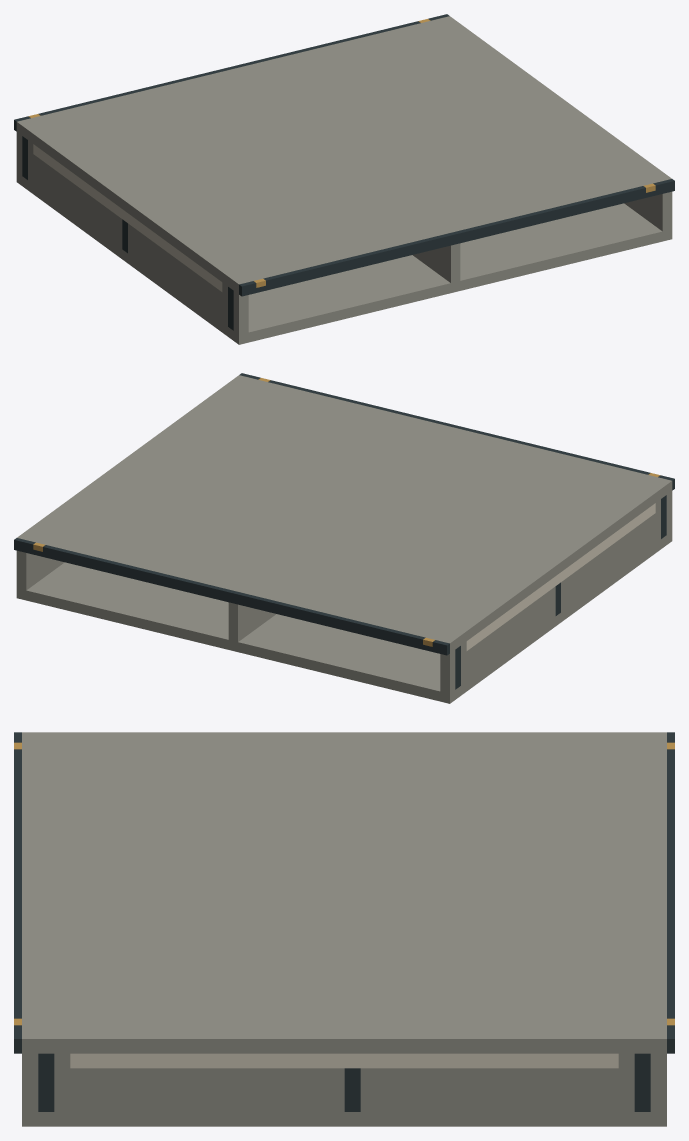
3 views of the same model, one above another, from view 1: azimuth 30°, elevation 25°; view 2: azimuth 150°, elevation 25°; view 3: azimuth 270°, elevation 25° (orthographic). The views are drawn at different scales.
Parts seen in each view (by area): view 1: 隔离共享高桥梁体; view 2: 隔离共享高桥梁体; view 3: 隔离共享高桥梁体.
Boxes of the visible parts, x1,y1,x2,y2 form: 隔离共享高桥梁体: (14, 14, 674, 344); 隔离共享高桥梁体: (14, 373, 674, 703); 隔离共享高桥梁体: (14, 732, 674, 1126).
Bounding box in the file's own units: 9 × 1.2 × 8.2.
4 materials, 4 textured.
